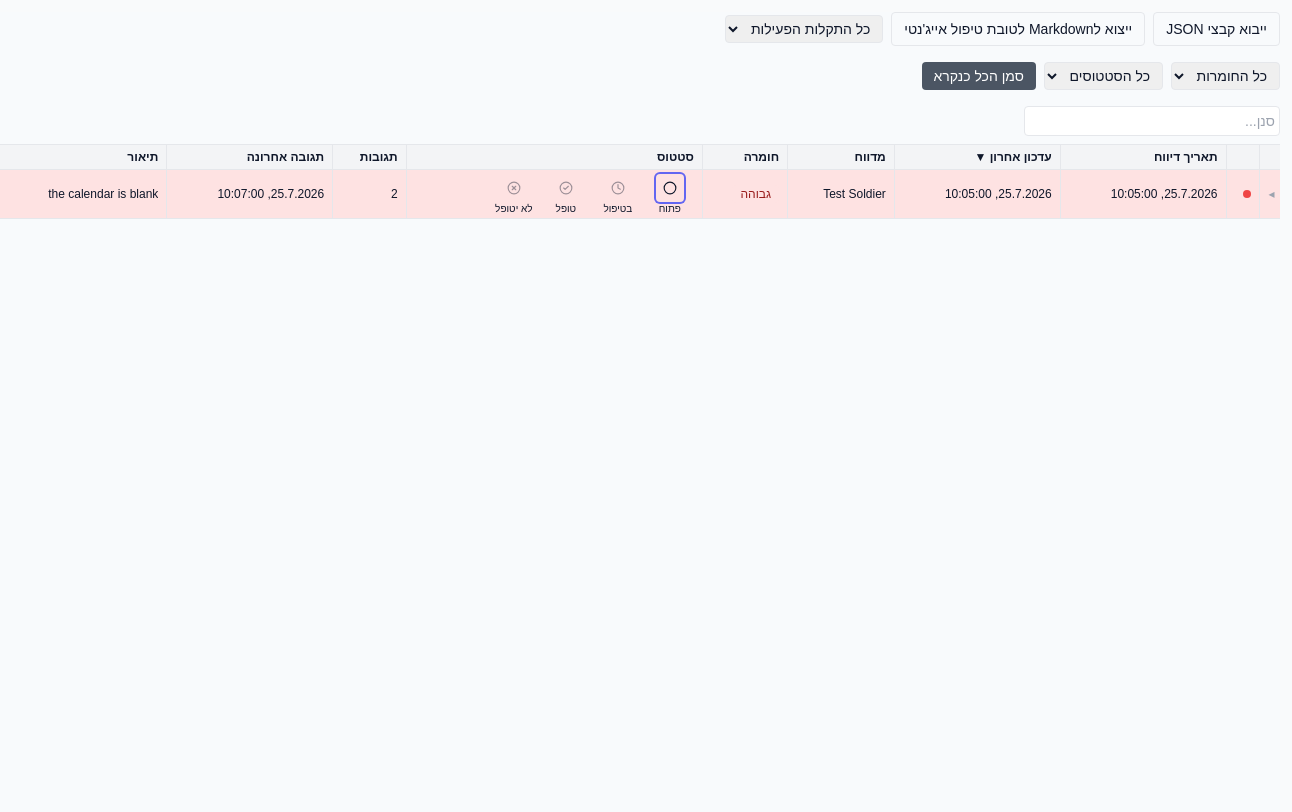
Test: BugReportsContent › shows the translated backend detail when JSON loading fails
Click the button named "הרחב" at (1272, 194), box top-left (1268, 186), bottom-right (1274, 202)
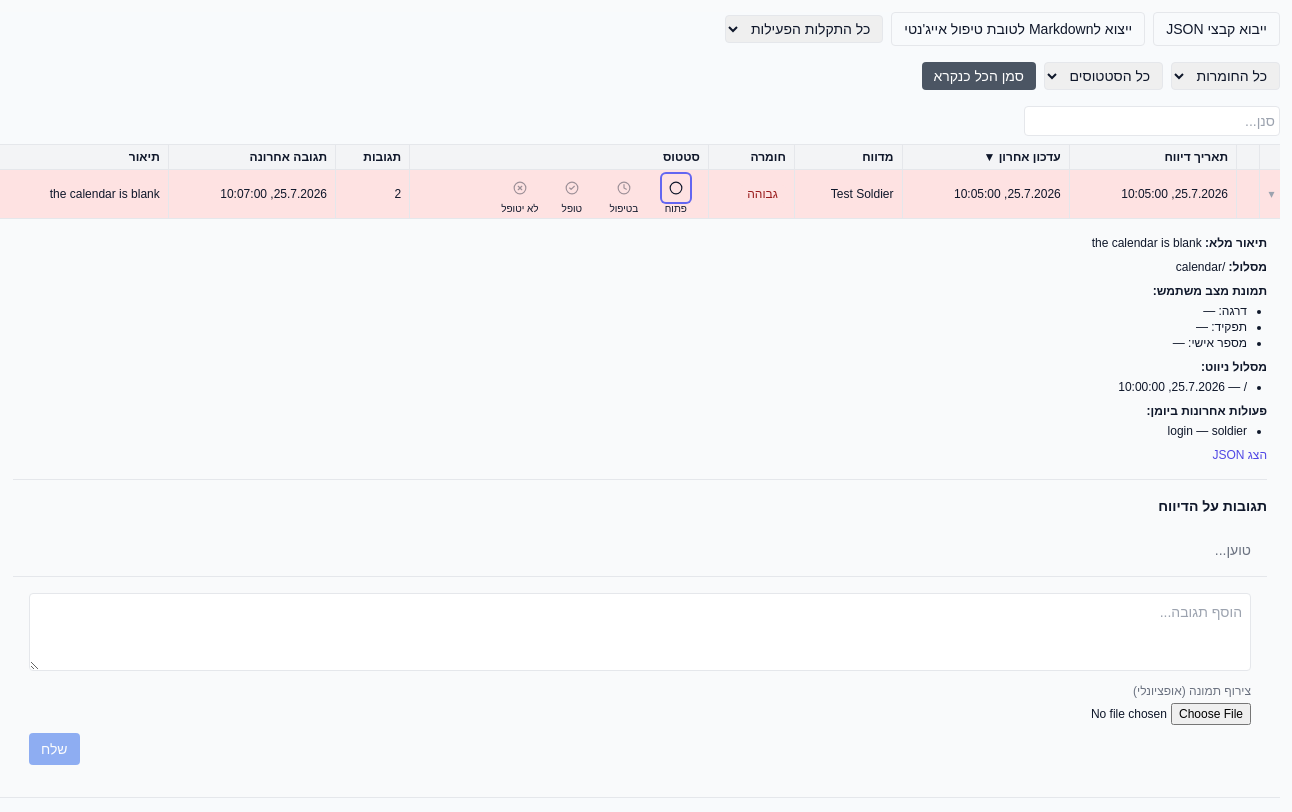
Click the button with test id "bug-report-view-json-r1" at (1240, 455), box top-left (1212, 447), bottom-right (1267, 463)
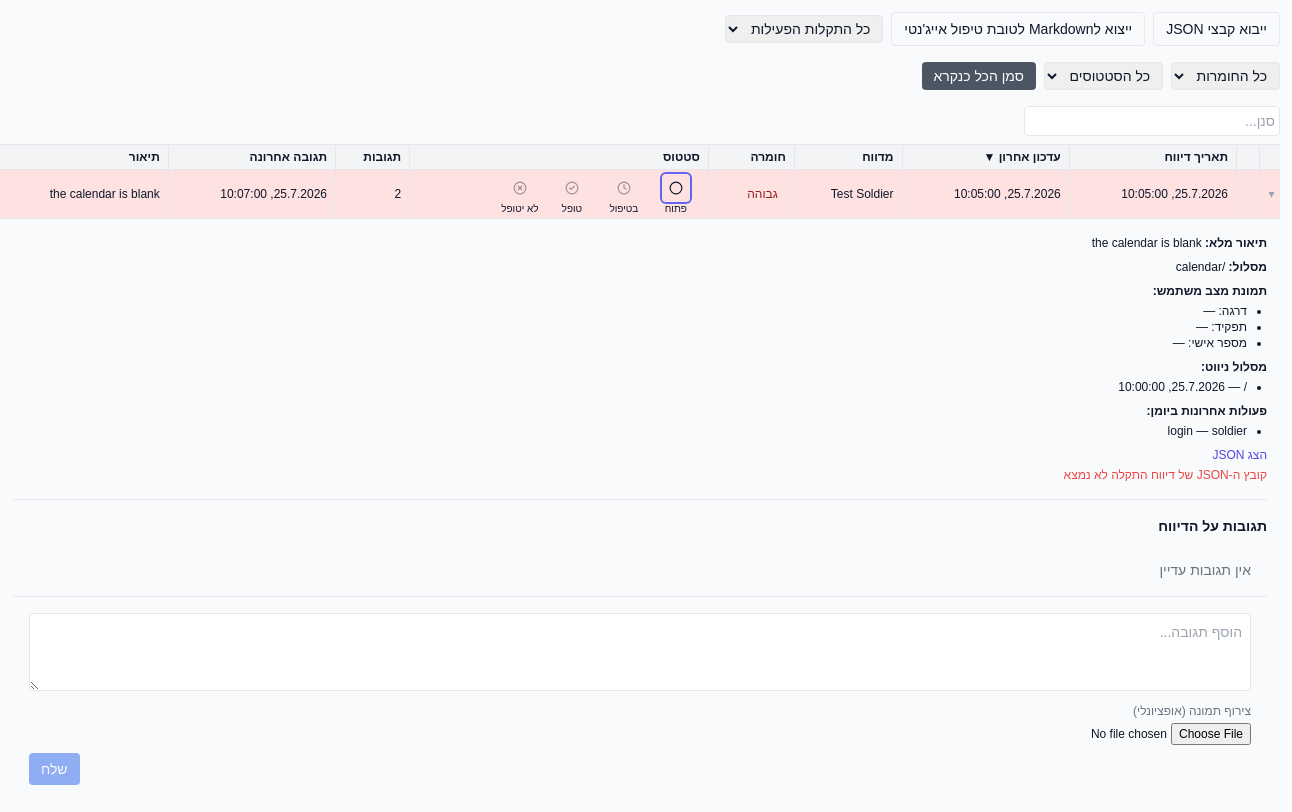
Now the text with test id "bug-report-json-error-r1" reads "קובץ ה-JSON של דיווח התקלה לא נמצא", box top-left (1064, 468), bottom-right (1267, 482)
